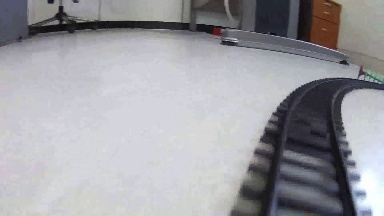tree: (356, 66, 384, 84)
